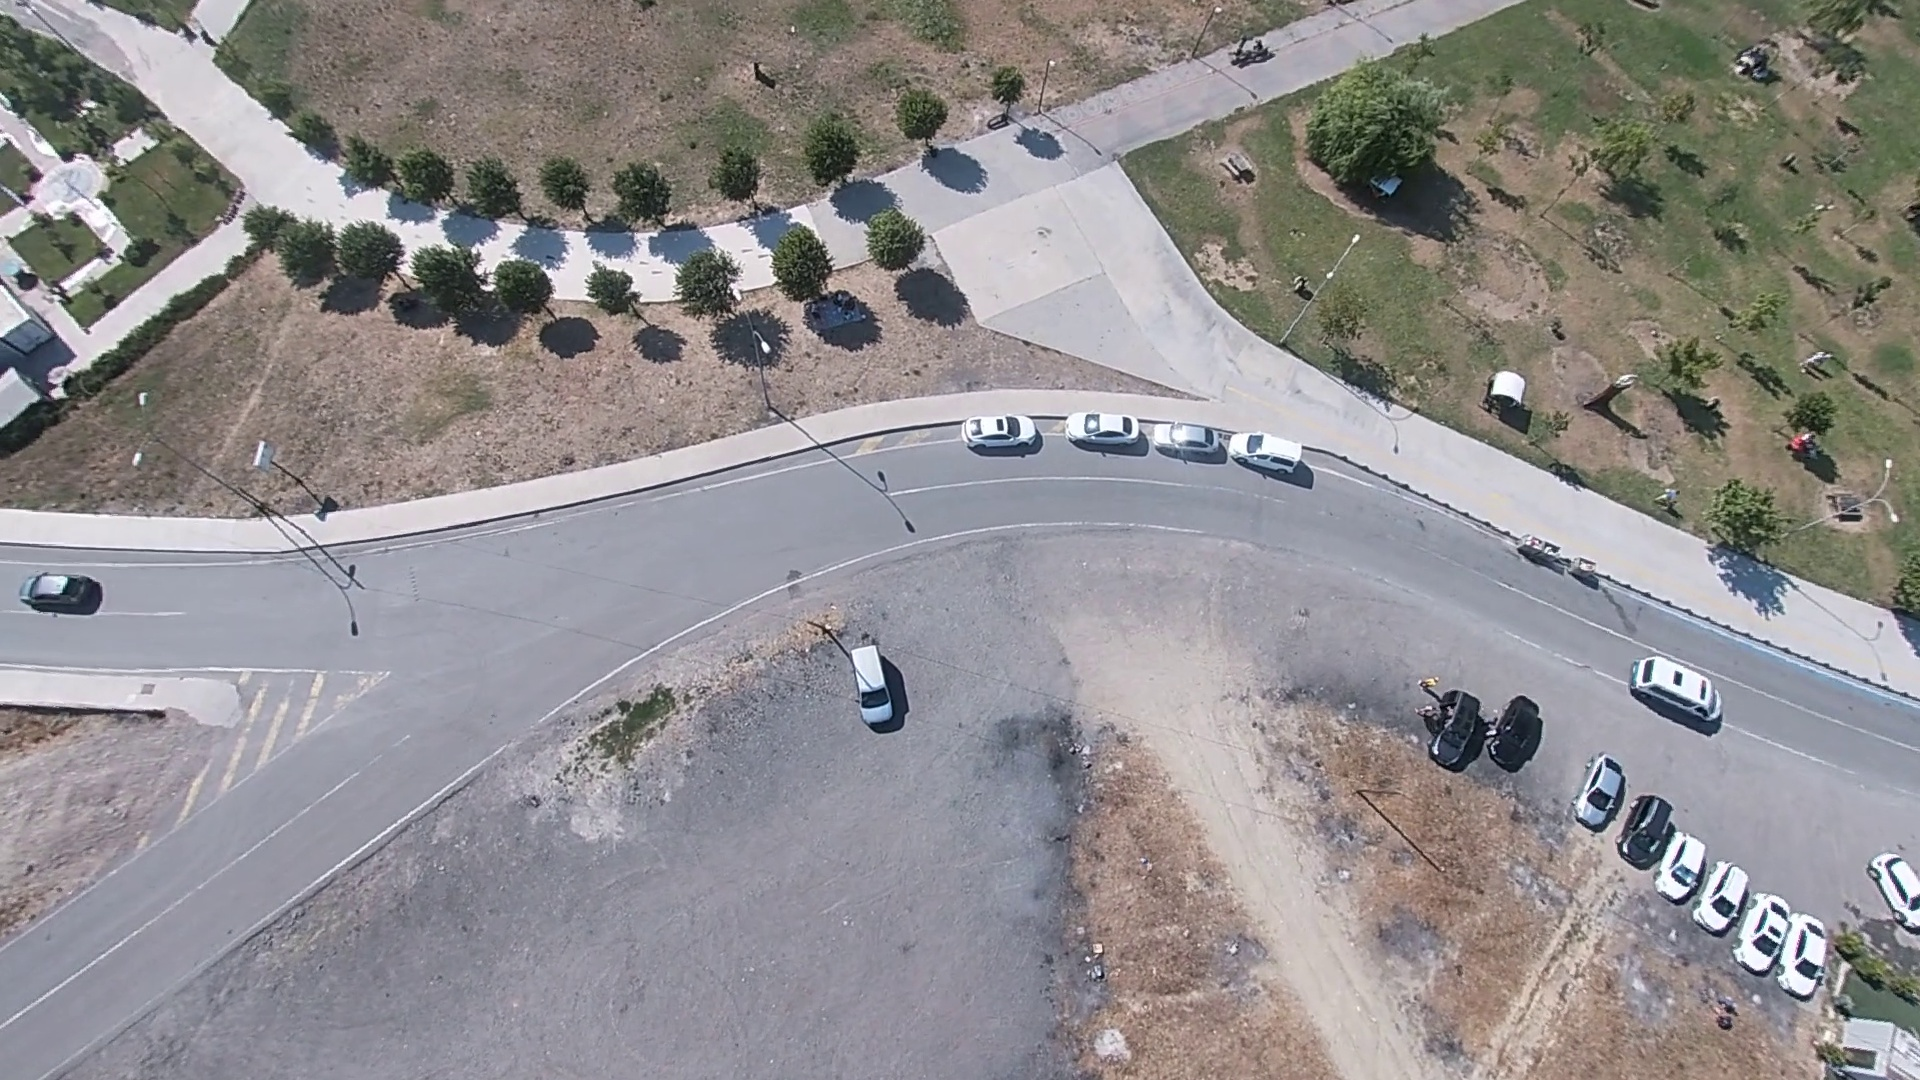arac: (1629, 651, 1731, 729), (842, 639, 903, 728), (1219, 425, 1310, 482), (1581, 752, 1640, 832), (1870, 851, 1920, 927), (23, 569, 103, 614), (1700, 863, 1753, 930), (963, 412, 1043, 453), (1481, 369, 1532, 423), (1229, 37, 1270, 67)
insan: (1787, 432, 1833, 474), (1736, 46, 1776, 83)
